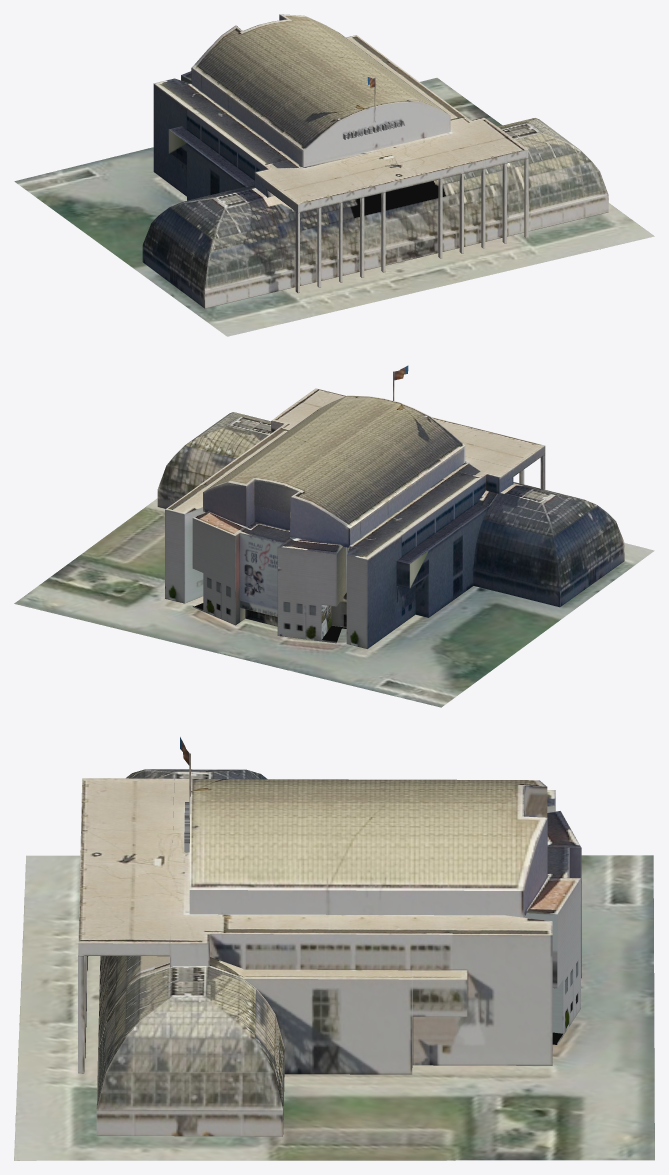
File: PIIE_AR_MO025_MUSICA.fbx
The picture shows the model from 3 angles, top to bottom: view 1: azimuth 30°, elevation 25°; view 2: azimuth 150°, elevation 25°; view 3: azimuth 270°, elevation 25°; orthographic projection. The views are drawn at different scales.
Visible parts, largest first — view 1: OLD.001; view 2: OLD.001; view 3: OLD.001.
Boxes of the visible parts, x1=… form: OLD.001: x1=14, y1=14, x2=654, y2=336; OLD.001: x1=14, y1=365, x2=654, y2=707; OLD.001: x1=14, y1=737, x2=654, y2=1160.
Bounding box in the file's own units: 255 × 101 × 226.
1 material, 1 textured.
